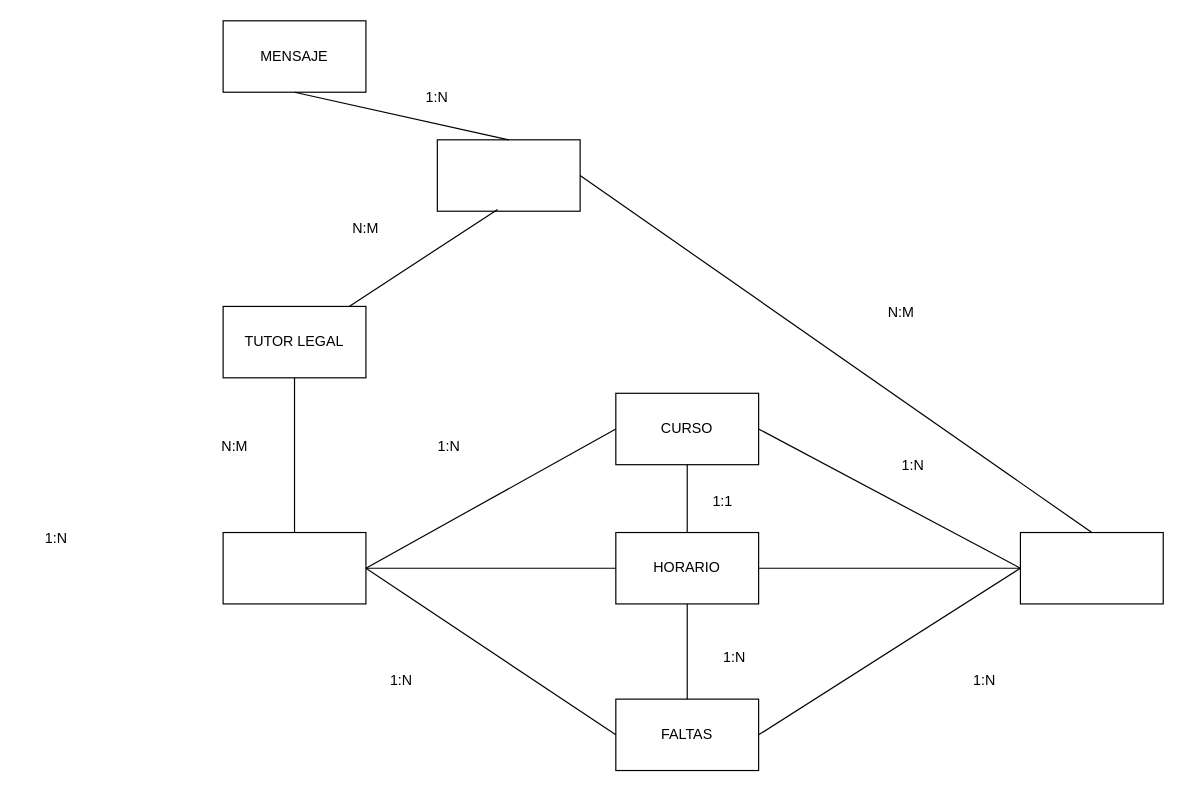
The diagram is 1184 pixels wide and 791 high, and some of its shapes have lost their labels. The shapes that lost their labels are listed below. From the top down, each one's box as (x1, y1, x2, y2) in pixels, then its label:
(436, 139, 580, 211): CHAT
(222, 531, 366, 604): ALUMNO
(1019, 531, 1163, 604): PROFESOR
